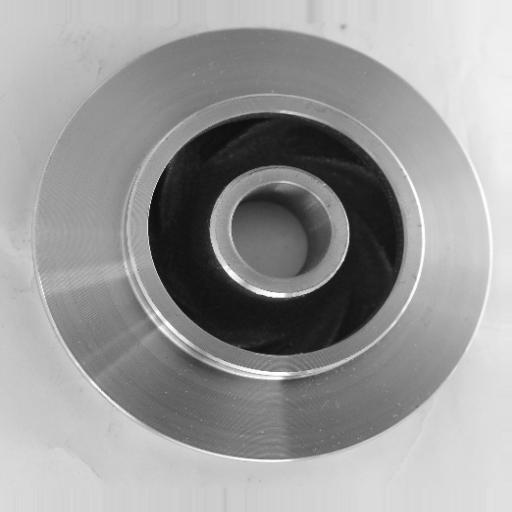polished_casting: (32, 26, 492, 463)
